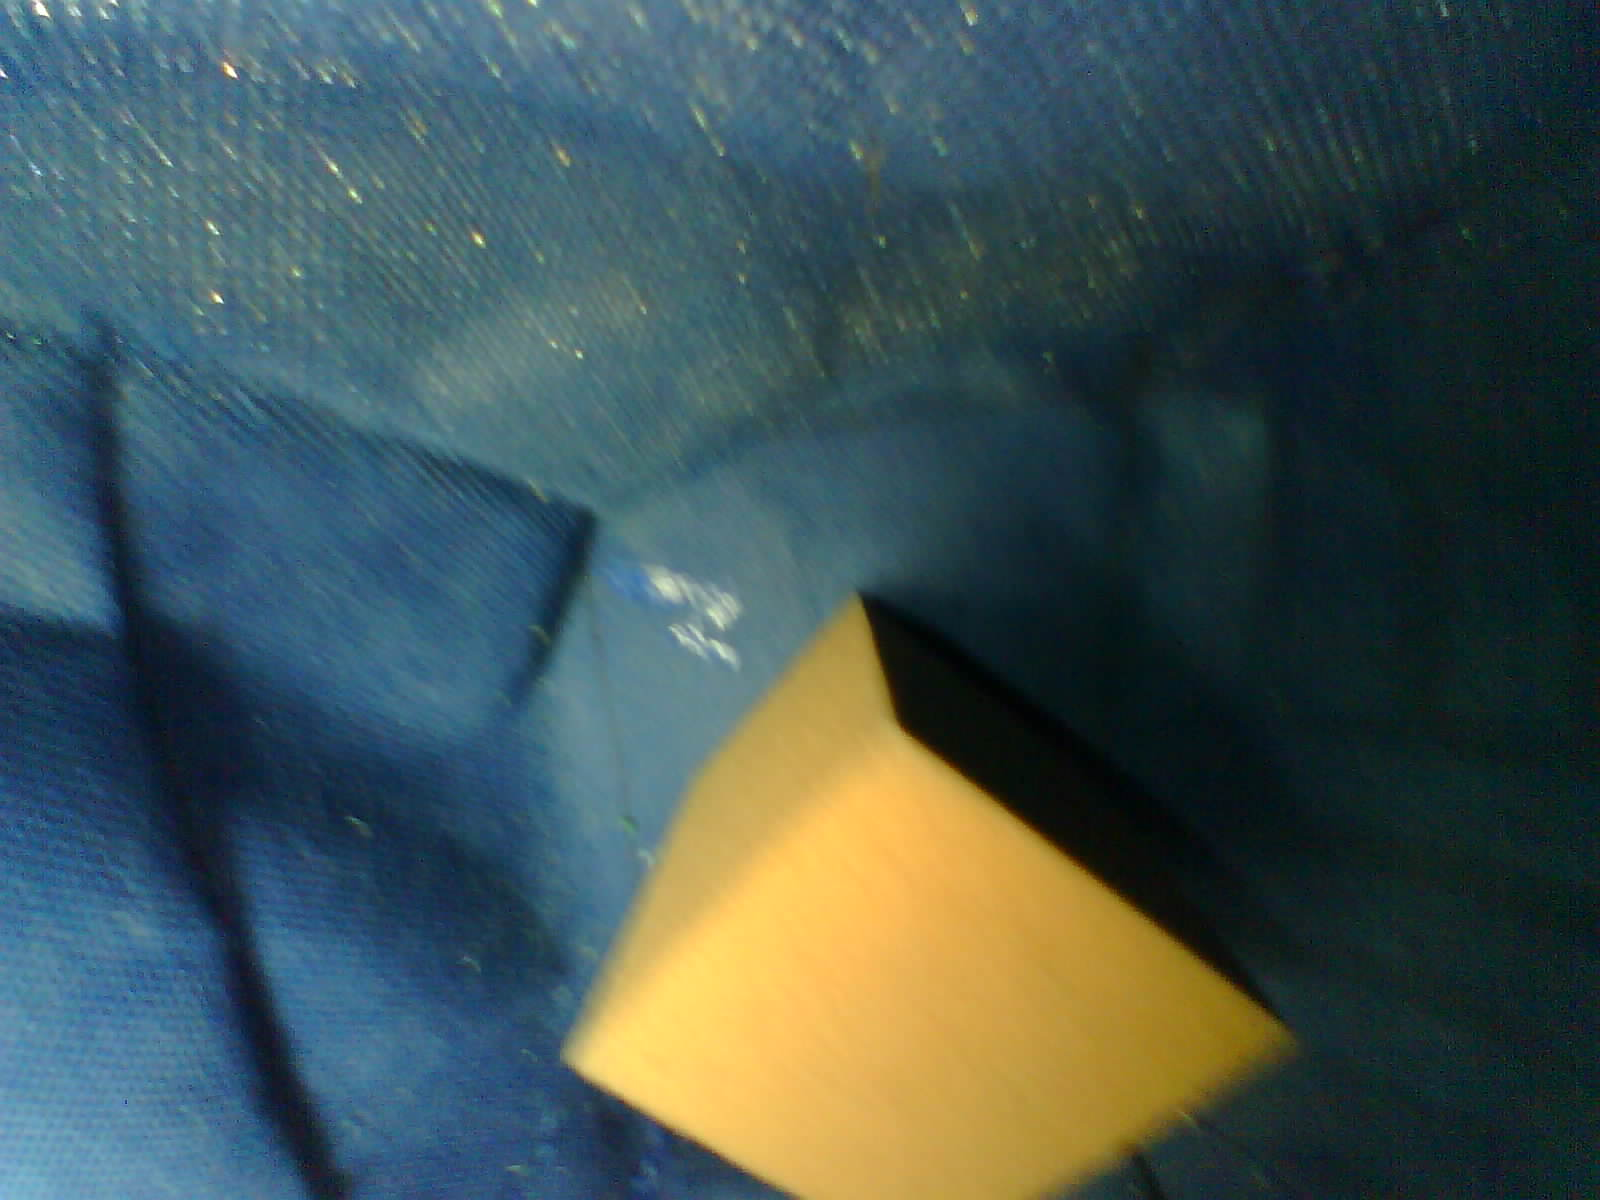cube-soft: (509, 574, 1303, 1200)
